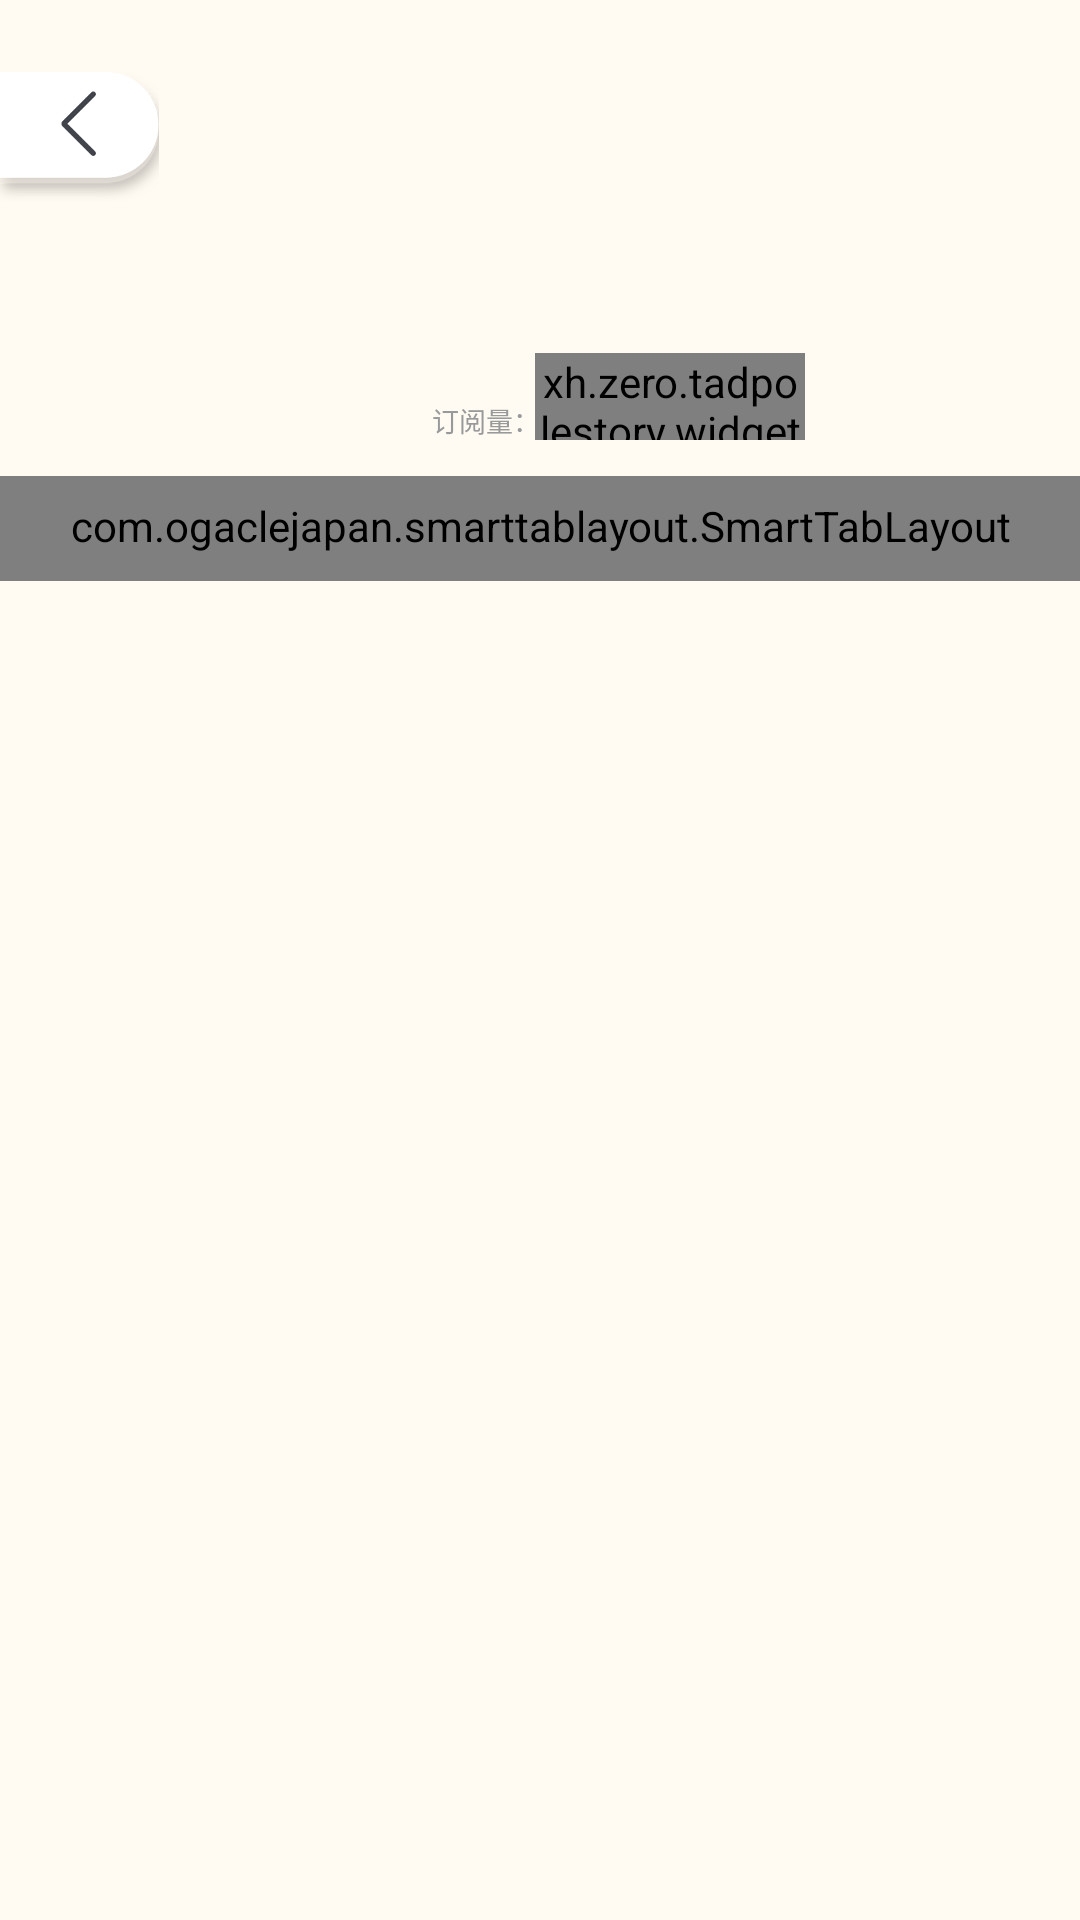

Locate icon controls on the screen. Image size 1080px×1920px, boxes as (x1, y1, x2, y2).
back: (0, 72, 159, 196)
